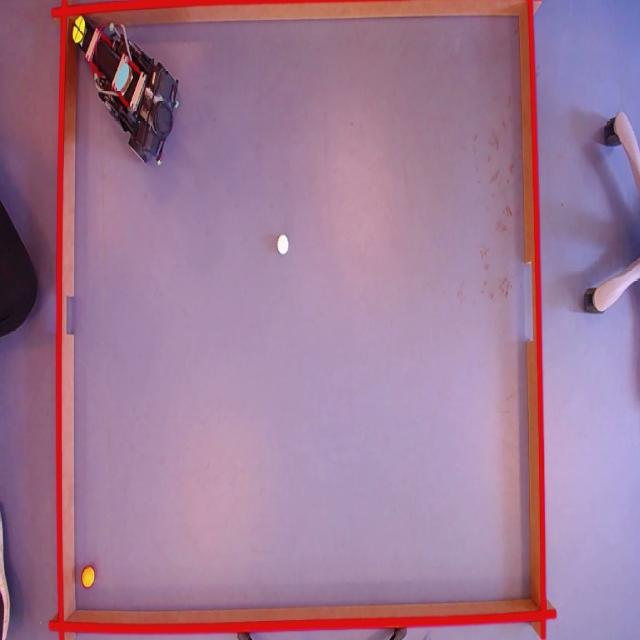orange: (82, 567, 96, 588)
robot: (66, 16, 183, 174)
robot-front: (72, 16, 85, 44)
robot-rear: (114, 61, 132, 89)
white: (276, 234, 288, 255)
